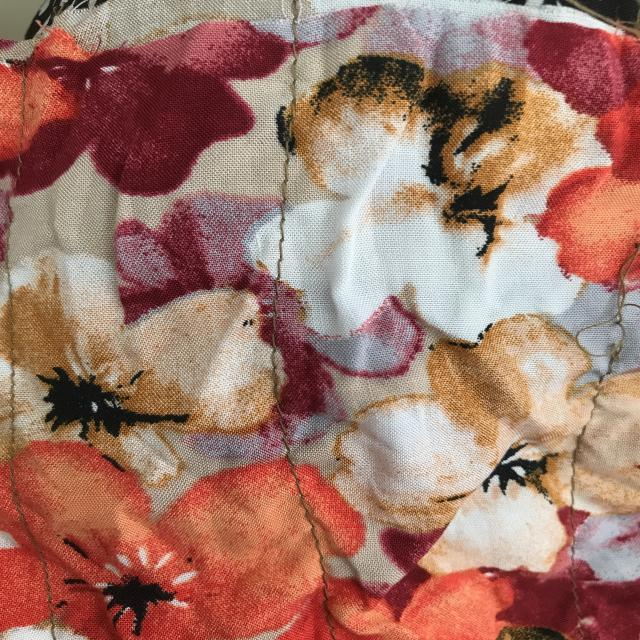good: (271, 456, 343, 599), (271, 167, 297, 282)
